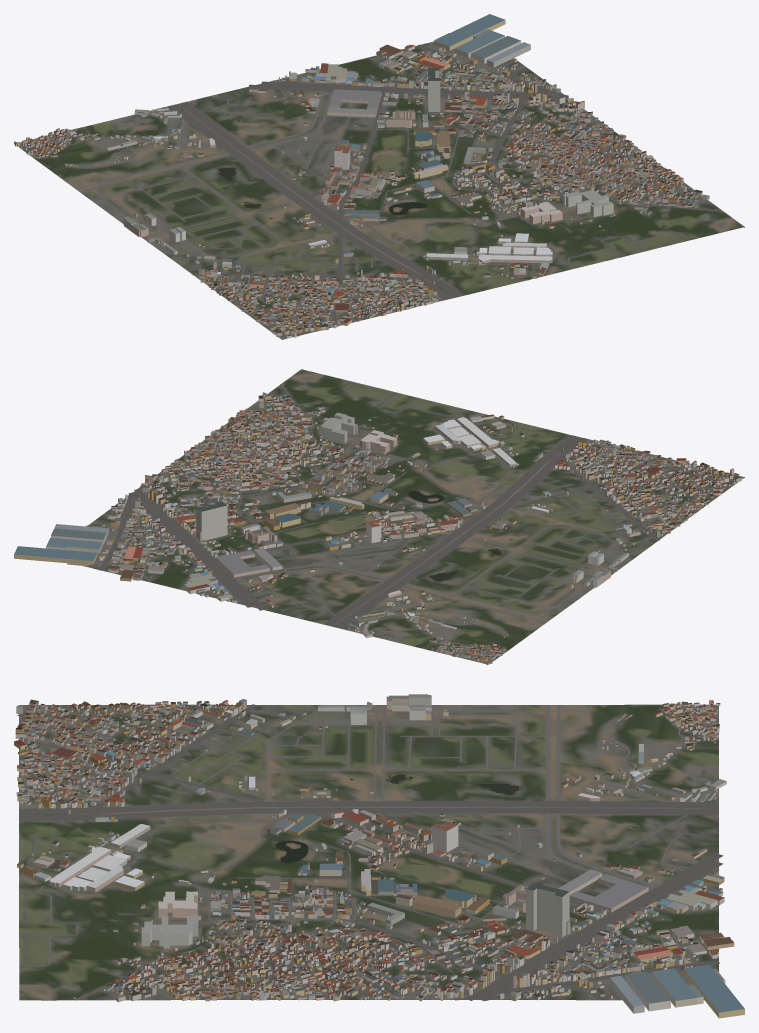
3 renders of one model, top to bottom at view 1: azimuth 30°, elevation 25°; view 2: azimuth 150°, elevation 25°; view 3: azimuth 270°, elevation 25°, orthographic. The views are drawn at different scales.
Parts seen in each view (by area): view 1: ground, buildings, roads, water; view 2: ground, buildings, roads, water; view 3: ground, buildings, roads, water.
Boxes of the visible parts, box(x1,y1,x2,y2) form: ground: box(14, 41, 744, 339); buildings: box(14, 14, 721, 338); roads: box(20, 42, 723, 339); water: box(218, 166, 531, 219); ground: box(82, 369, 744, 664); buildings: box(14, 383, 741, 665); roads: box(89, 382, 742, 660); water: box(287, 472, 512, 581); ground: box(19, 704, 718, 1000); buildings: box(14, 694, 744, 1018); roads: box(17, 704, 723, 1000); water: box(276, 774, 518, 936).
Size of the model in its own units: 1491 by 93.63 by 1464.
